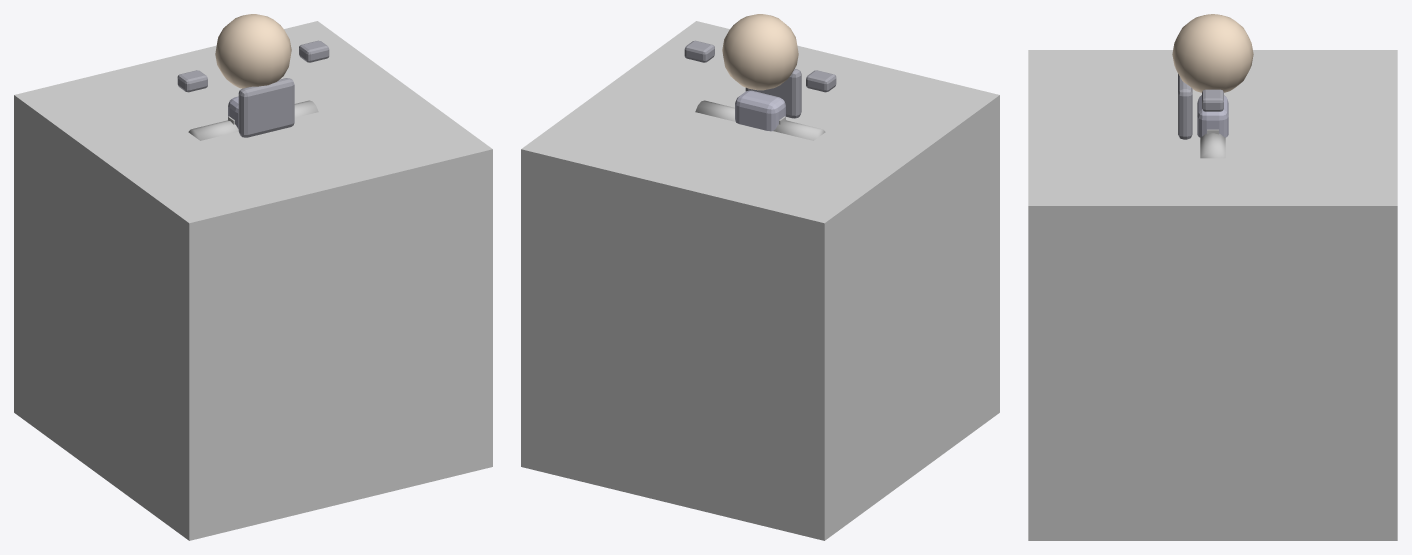
The model's file is 0760024f-e939-44ff-b0e6-53e986678cab.glb.
3 views of the same model, side by side, from view 1: azimuth 30°, elevation 25°; view 2: azimuth 150°, elevation 25°; view 3: azimuth 270°, elevation 25° (orthographic). The views are drawn at different scales.
Visible parts, largest first — view 1: Cube, AkkuBase_Head, Armor_chest_chest_plate, AkkuBase_UpperArm_L; view 2: Cube, AkkuBase_Head, AkkuBase_Torso, Armor_chest_chest_plate, AkkuBase_UpperArm_L; view 3: Cube, AkkuBase_Head, AkkuBase_Torso, Armor_chest_chest_plate, AkkuBase_UpperArm_R, Armor_right_shoulder_shoulder_pad.
Part boxes in pixels (x1,y1,x2,y2): Cube: (14,21,492,540); AkkuBase_Head: (215,14,291,88); Armor_chest_chest_plate: (238,78,294,137); AkkuBase_UpperArm_L: (188,120,238,140); Cube: (521,21,999,540); AkkuBase_Head: (722,14,798,90); AkkuBase_Torso: (735,90,785,131); Armor_chest_chest_plate: (745,69,801,118); AkkuBase_UpperArm_L: (773,120,825,140); Cube: (1028,50,1397,540); AkkuBase_Head: (1172,14,1253,92); AkkuBase_Torso: (1197,95,1228,137); Armor_chest_chest_plate: (1178,74,1192,139); AkkuBase_UpperArm_R: (1200,133,1225,158); Armor_right_shoulder_shoulder_pad: (1202,89,1223,111).
Size of the model in its own units: 2 by 2.66 by 2.
